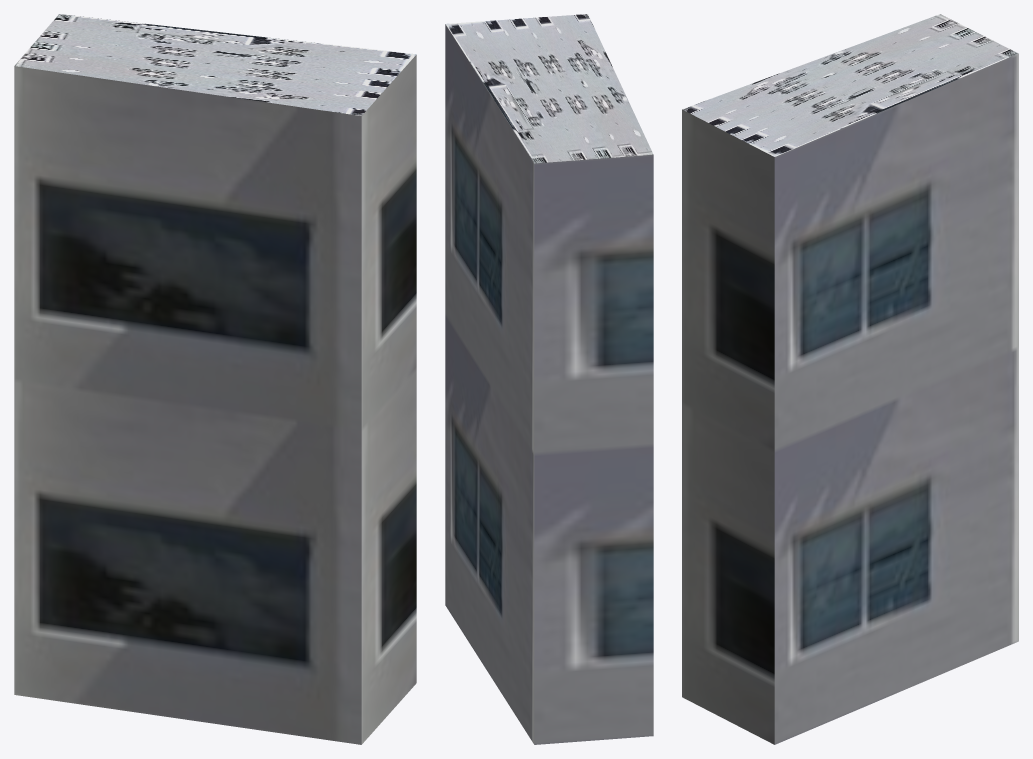
Rendered from ResTex__3359.fbx.
3 renders of one model, left to right at view 1: azimuth 30°, elevation 25°; view 2: azimuth 150°, elevation 25°; view 3: azimuth 270°, elevation 25°, orthographic. The views are drawn at different scales.
Visible parts, largest first — view 1: CityEngineMaterial_10_m, CityEngineMaterial_4_m; view 2: CityEngineMaterial_10_m, CityEngineMaterial_4_m; view 3: CityEngineMaterial_10_m, CityEngineMaterial_4_m.
Part boxes in pixels (<box>): CityEngineMaterial_10_m: <box>14,55,416,744</box>; CityEngineMaterial_4_m: <box>14,14,416,115</box>; CityEngineMaterial_10_m: <box>445,24,653,744</box>; CityEngineMaterial_4_m: <box>445,14,653,163</box>; CityEngineMaterial_10_m: <box>682,54,1018,744</box>; CityEngineMaterial_4_m: <box>682,14,1018,156</box>.
Bounding box in the file's own units: 3.13 × 6 × 3.12.
2 materials, 2 textured.
